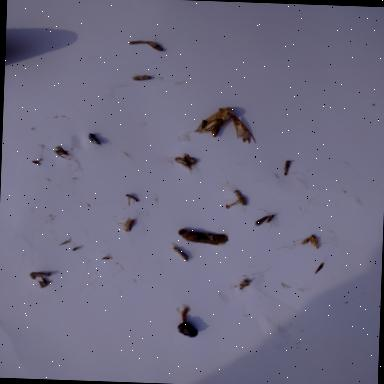pbw: (170, 242, 188, 261), (230, 189, 249, 207), (300, 234, 320, 250), (174, 157, 192, 170), (146, 41, 162, 51), (255, 215, 268, 226), (206, 118, 219, 129), (130, 74, 152, 80), (284, 160, 290, 176), (128, 40, 146, 45)
